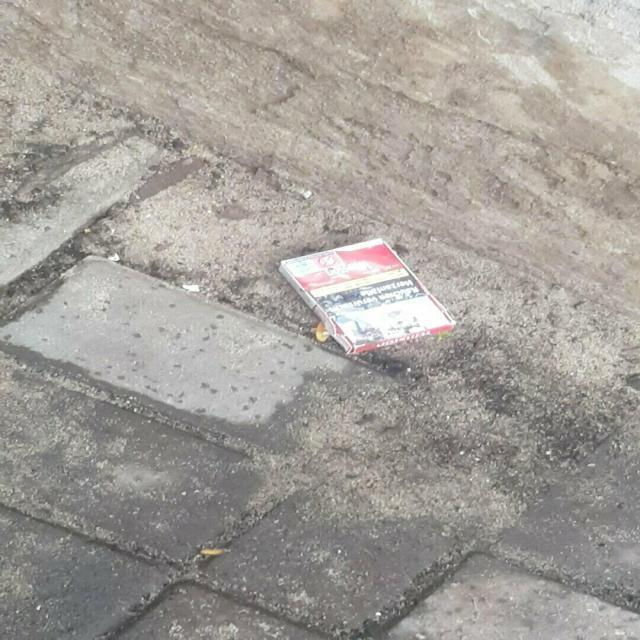Paper: (275, 236, 458, 357)
